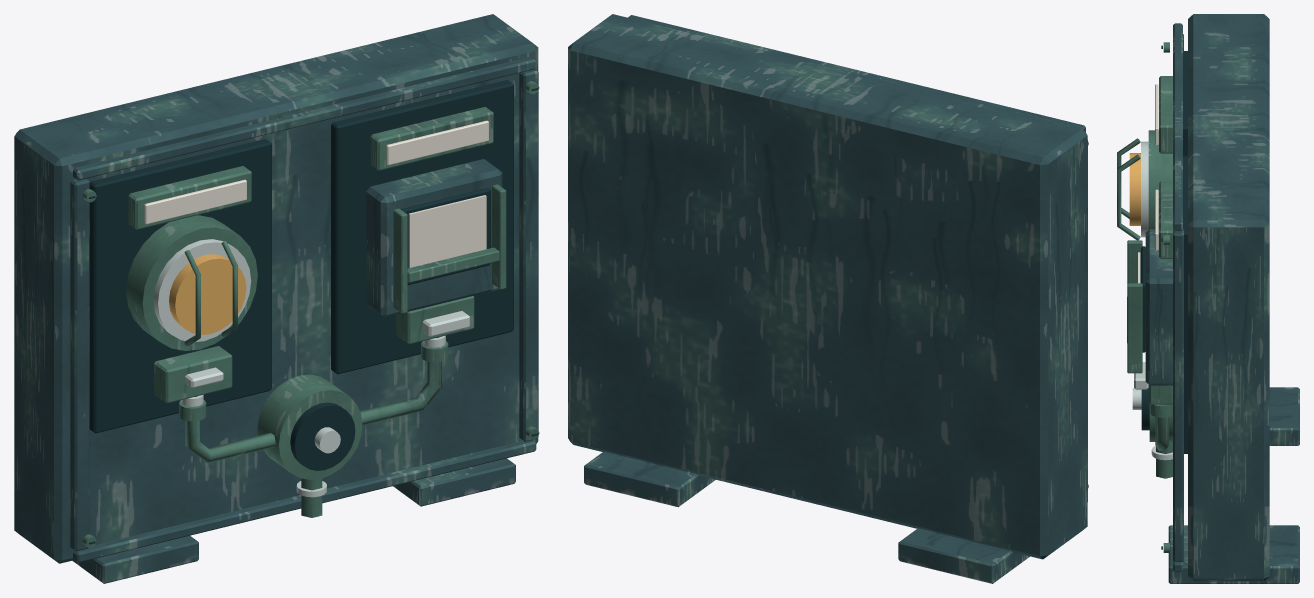
Rendered from SM_C1_Gate_System_Panel.fbx.
3 views of the same model, side by side, from view 1: azimuth 30°, elevation 25°; view 2: azimuth 150°, elevation 25°; view 3: azimuth 270°, elevation 25° (orthographic). The views are drawn at different scales.
Visible parts, largest first — view 1: SM_C1_Gate_System_Panel_Casting, SM_C1_Gate_System_Panel_Recess, SM_C1_Gate_System_Panel_Patina, SM_C1_Gate_System_Panel_Blank_Paper, SM_C1_Gate_System_Panel_Salt_Porcelain, SM_C1_Gate_System_Panel_Lamp_Lens; view 2: SM_C1_Gate_System_Panel_Casting; view 3: SM_C1_Gate_System_Panel_Casting, SM_C1_Gate_System_Panel_Patina, SM_C1_Gate_System_Panel_Recess, SM_C1_Gate_System_Panel_Salt_Porcelain, SM_C1_Gate_System_Panel_Lamp_Lens, SM_C1_Gate_System_Panel_Blank_Paper.
Boxes of the visible parts, x1,y1,x2,y2 form: SM_C1_Gate_System_Panel_Casting: (14, 14, 538, 583); SM_C1_Gate_System_Panel_Recess: (89, 80, 538, 544); SM_C1_Gate_System_Panel_Patina: (82, 81, 539, 547); SM_C1_Gate_System_Panel_Blank_Paper: (144, 120, 488, 267); SM_C1_Gate_System_Panel_Salt_Porcelain: (153, 239, 469, 497); SM_C1_Gate_System_Panel_Lamp_Lens: (169, 254, 246, 334); SM_C1_Gate_System_Panel_Casting: (568, 14, 1087, 583); SM_C1_Gate_System_Panel_Casting: (1145, 14, 1299, 583); SM_C1_Gate_System_Panel_Patina: (1117, 42, 1172, 552); SM_C1_Gate_System_Panel_Recess: (1141, 45, 1187, 549); SM_C1_Gate_System_Panel_Salt_Porcelain: (1132, 141, 1172, 460); SM_C1_Gate_System_Panel_Lamp_Lens: (1129, 153, 1140, 225); SM_C1_Gate_System_Panel_Blank_Paper: (1138, 84, 1158, 283).
Size of the model in its own units: 110 by 92 by 40.36.
Materials: 6 (2 with a texture image).
